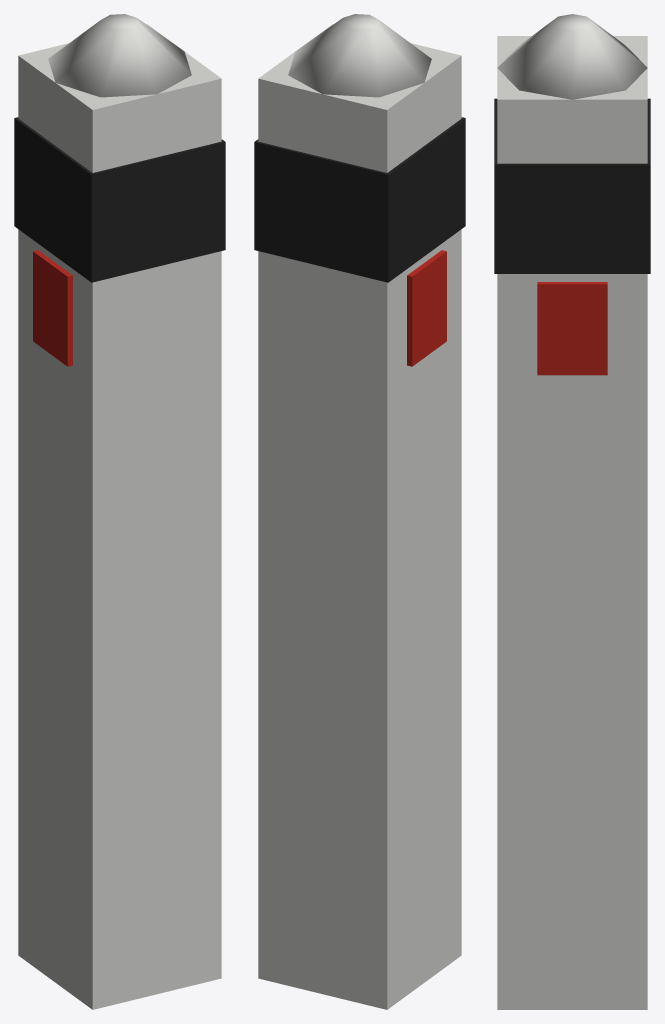
The model's file is street.bollard.village.glb.
3 views of the same model, side by side, from view 1: azimuth 30°, elevation 25°; view 2: azimuth 150°, elevation 25°; view 3: azimuth 270°, elevation 25° (orthographic).
Parts seen in each view (by area): view 1: main__galv_ddd, main__timber_222, main__paint_b22; view 2: main__galv_ddd, main__timber_222, main__paint_b22; view 3: main__galv_ddd, main__timber_222, main__paint_b22.
Boxes of the visible parts, x1,y1,x2,y2 form: main__galv_ddd: [18, 14, 221, 1009]; main__timber_222: [14, 117, 225, 282]; main__paint_b22: [33, 250, 72, 366]; main__galv_ddd: [258, 14, 461, 1009]; main__timber_222: [254, 117, 465, 282]; main__paint_b22: [407, 250, 446, 366]; main__galv_ddd: [497, 14, 647, 1009]; main__timber_222: [494, 98, 650, 273]; main__paint_b22: [537, 282, 607, 375].
Size of the model in its own units: 0.162 by 1.05 by 0.156.
